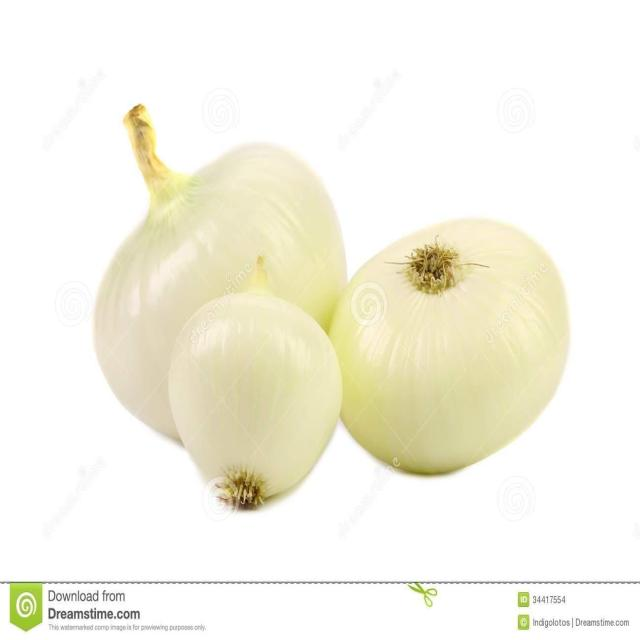Onion: (94, 101, 348, 449), (333, 217, 567, 478), (170, 252, 345, 509)
